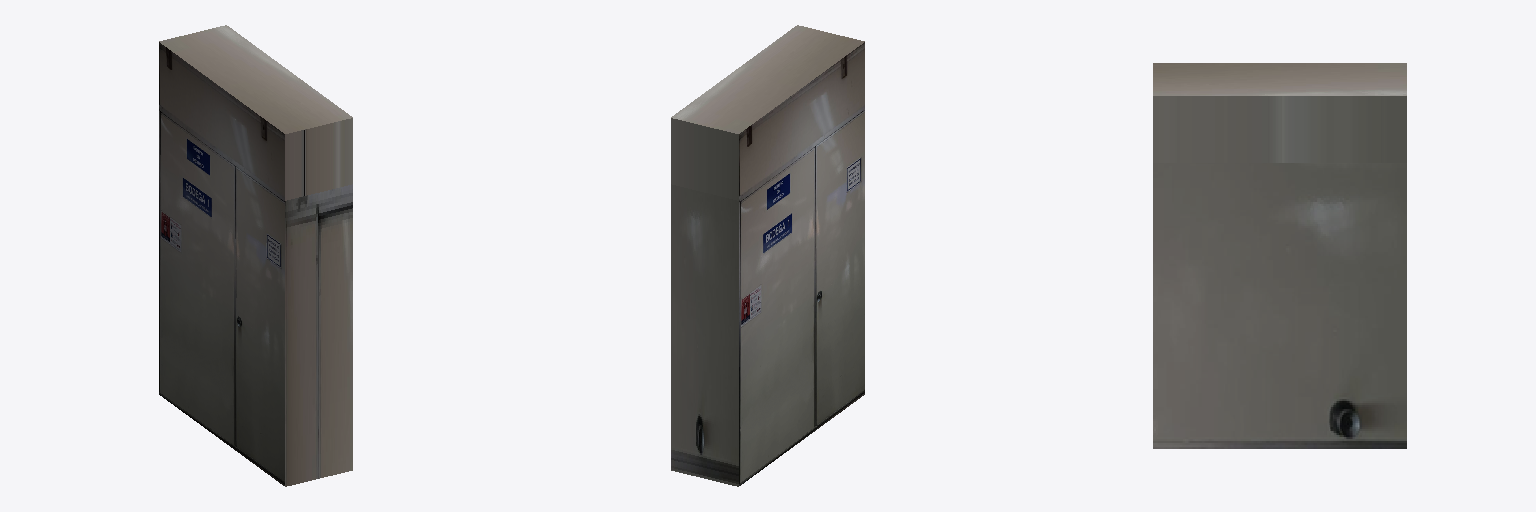
3 renders of one model, left to right at view 1: azimuth 30°, elevation 25°; view 2: azimuth 150°, elevation 25°; view 3: azimuth 270°, elevation 25°, orthographic.
Parts seen in each view (by area): view 1: almacen; view 2: almacen; view 3: almacen.
Boxes of the visible parts, <box> form: almacen: <box>159,25,352,486</box>; almacen: <box>671,25,864,486</box>; almacen: <box>1153,63,1406,448</box>.
Size of the model in its own units: 2 by 9.89 by 6.44.
Materials: 1 (1 with a texture image).